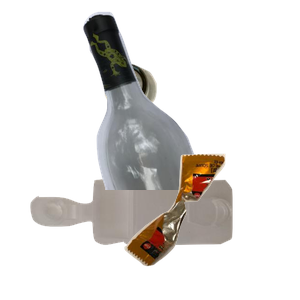glass: (81, 10, 300, 190)
metal: (102, 60, 252, 169)
plastic: (28, 176, 253, 300)
trash: (122, 151, 300, 300)
